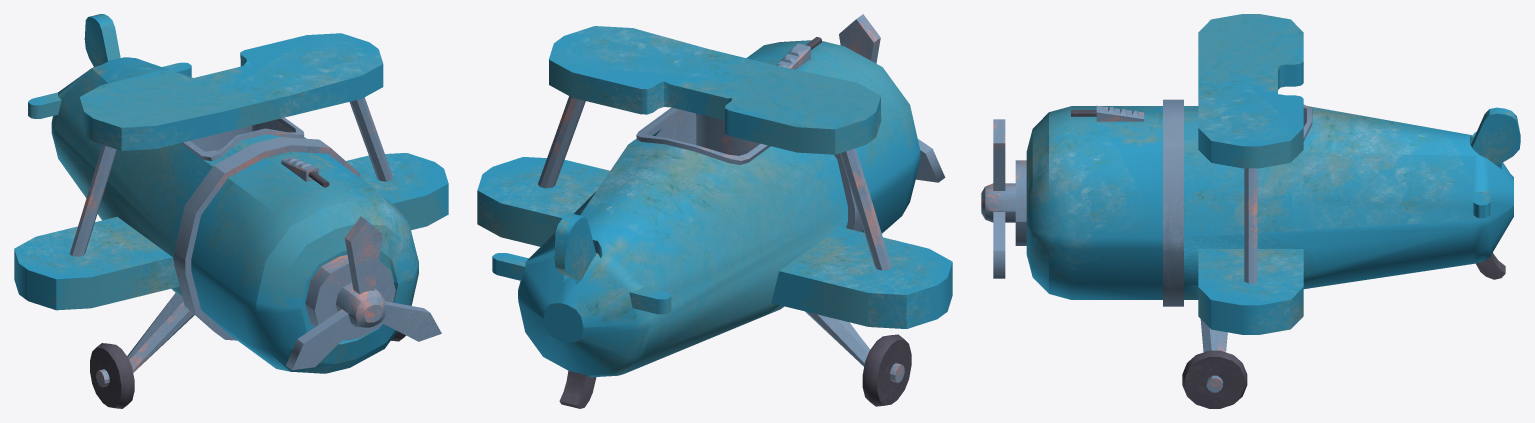
The model's file is Avion_Azul.fbx.
The picture shows the model from 3 angles, left to right: view 1: azimuth 30°, elevation 25°; view 2: azimuth 150°, elevation 25°; view 3: azimuth 270°, elevation 25°; orthographic projection. The views are drawn at different scales.
Visible parts, largest first — view 1: AvionAZUL, Helice_AvionAZUL; view 2: AvionAZUL, Helice_AvionAZUL; view 3: AvionAZUL, Helice_AvionAZUL.
Boxes of the visible parts, <box> form: AvionAZUL: <box>14,14,448,408</box>; Helice_AvionAZUL: <box>286,216,441,370</box>; AvionAZUL: <box>477,26,952,408</box>; Helice_AvionAZUL: <box>839,14,945,182</box>; AvionAZUL: <box>1015,14,1520,408</box>; Helice_AvionAZUL: <box>981,119,1015,278</box>.
Size of the model in its own units: 12.33 by 7.88 by 14.58.
Materials: 1 (1 with a texture image).
